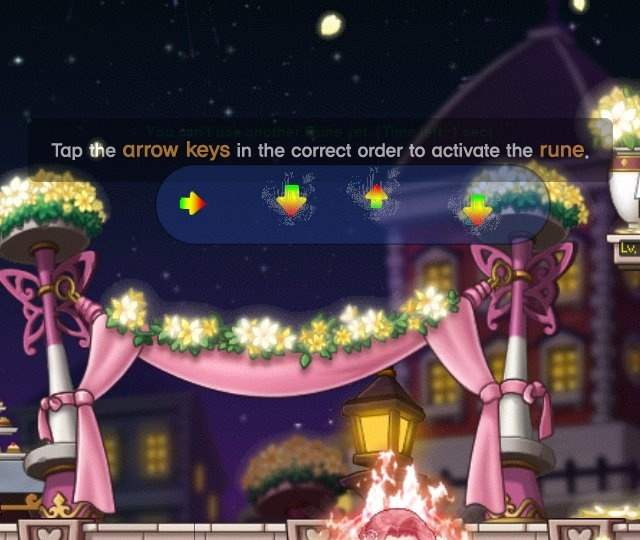rune_box: (148, 154, 563, 251)
